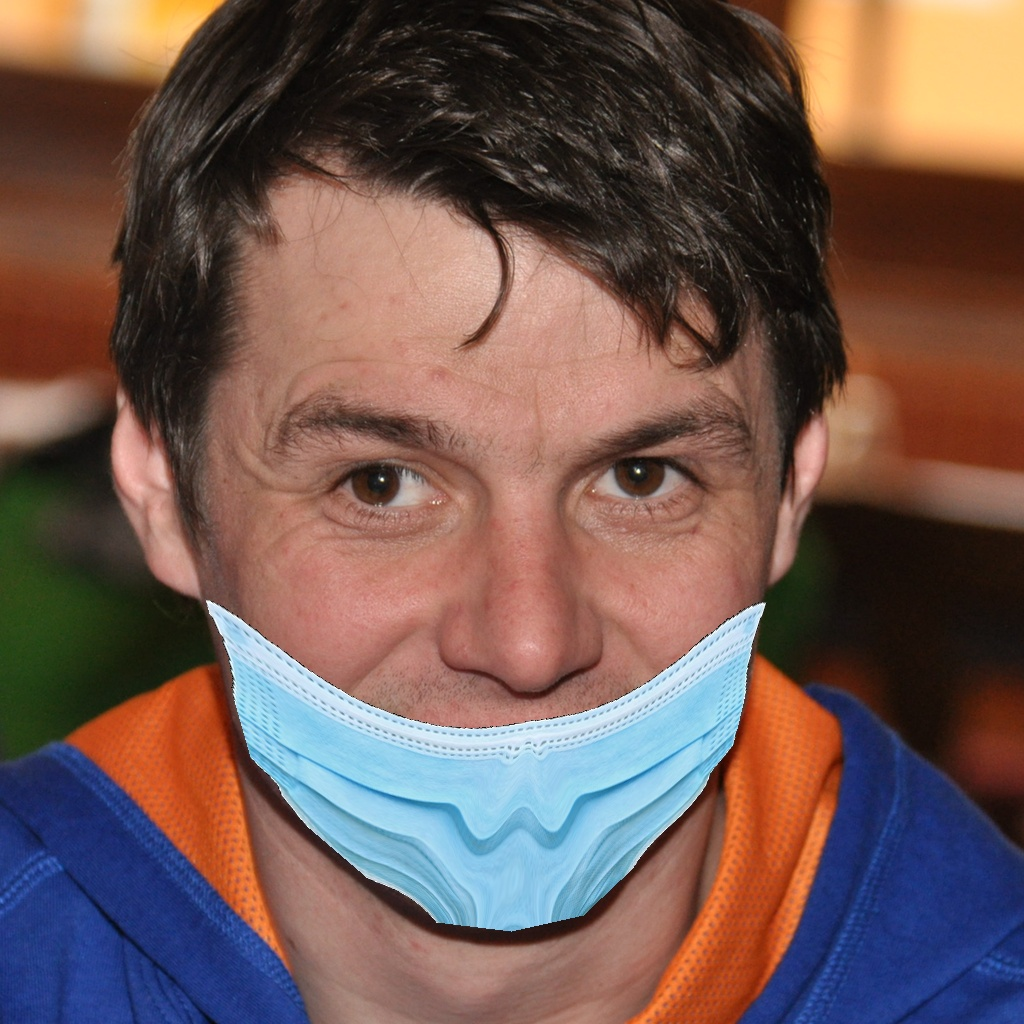mascarilla_mal_puesta: (149, 348, 812, 948)
